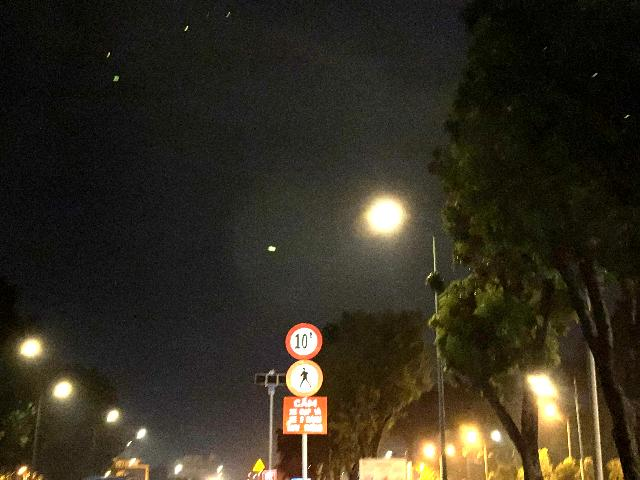cam-nguoi-di-bo: (286, 360, 323, 397)
han-che-trong-luong-xe: (285, 322, 323, 359)
